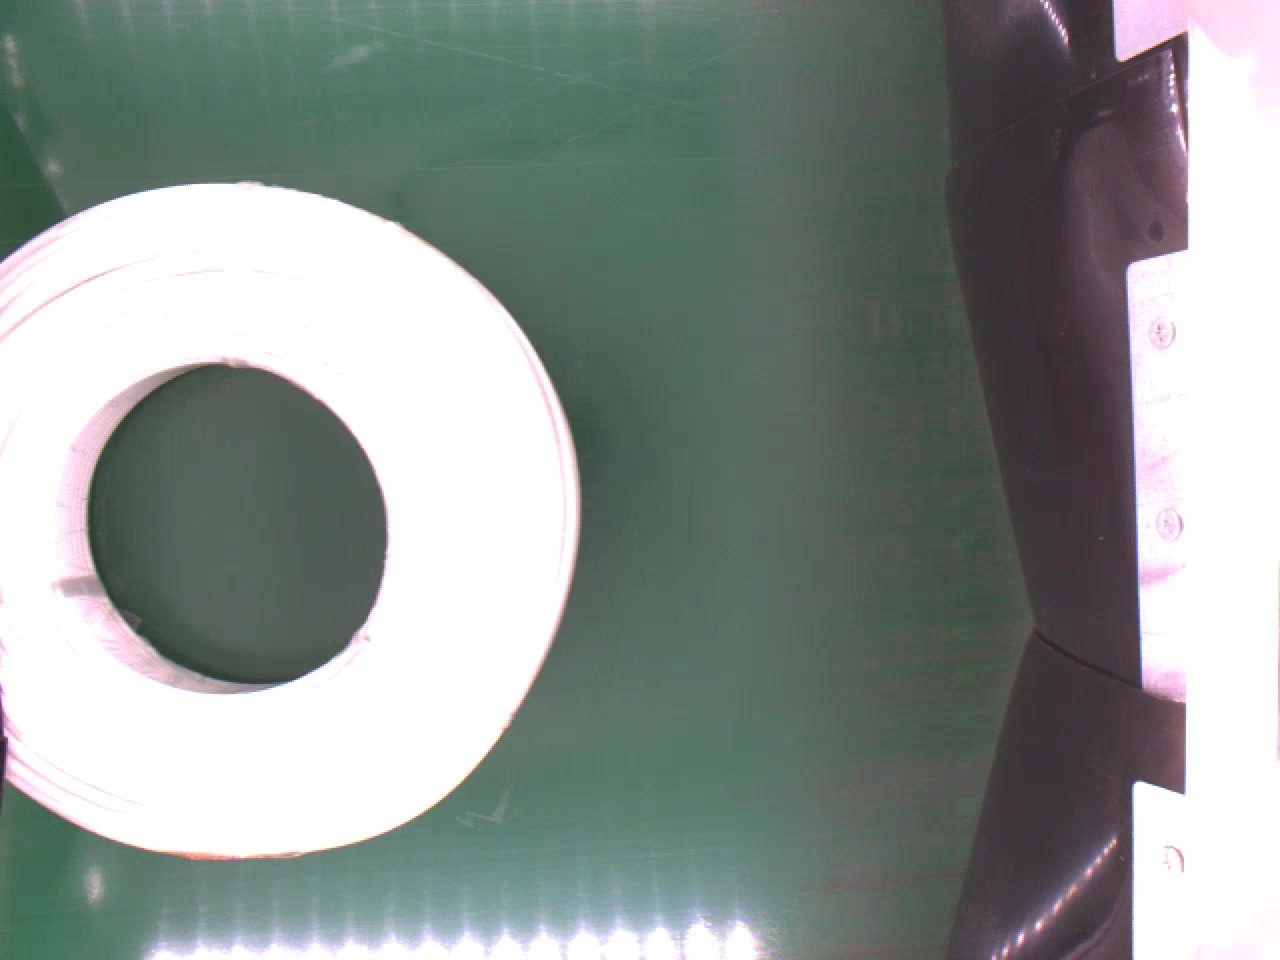white: (0, 175, 579, 862)
